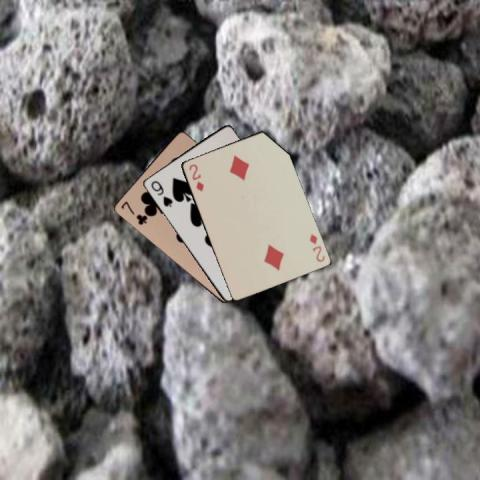2d: (306, 231, 326, 263), (186, 161, 206, 192)
7c: (117, 198, 148, 227)
9s: (147, 177, 174, 208)
